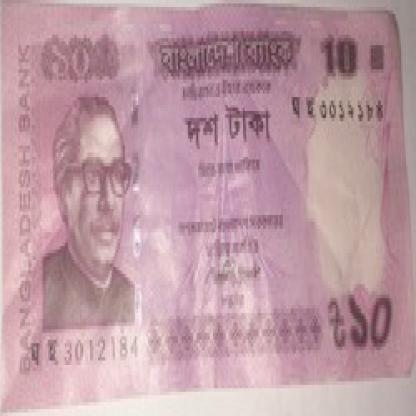Ten Taka: (40, 28, 106, 94), (320, 28, 370, 94), (348, 294, 391, 367)
